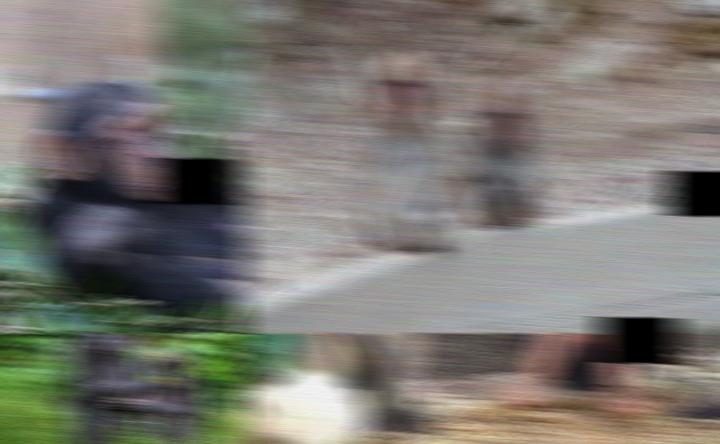Macaca fuscata: (359, 53, 464, 260), (281, 333, 446, 435), (459, 73, 547, 234), (238, 373, 374, 444)
chimpanzee: (25, 78, 250, 320), (59, 333, 147, 444), (139, 349, 218, 444)
human: (505, 333, 654, 416)
